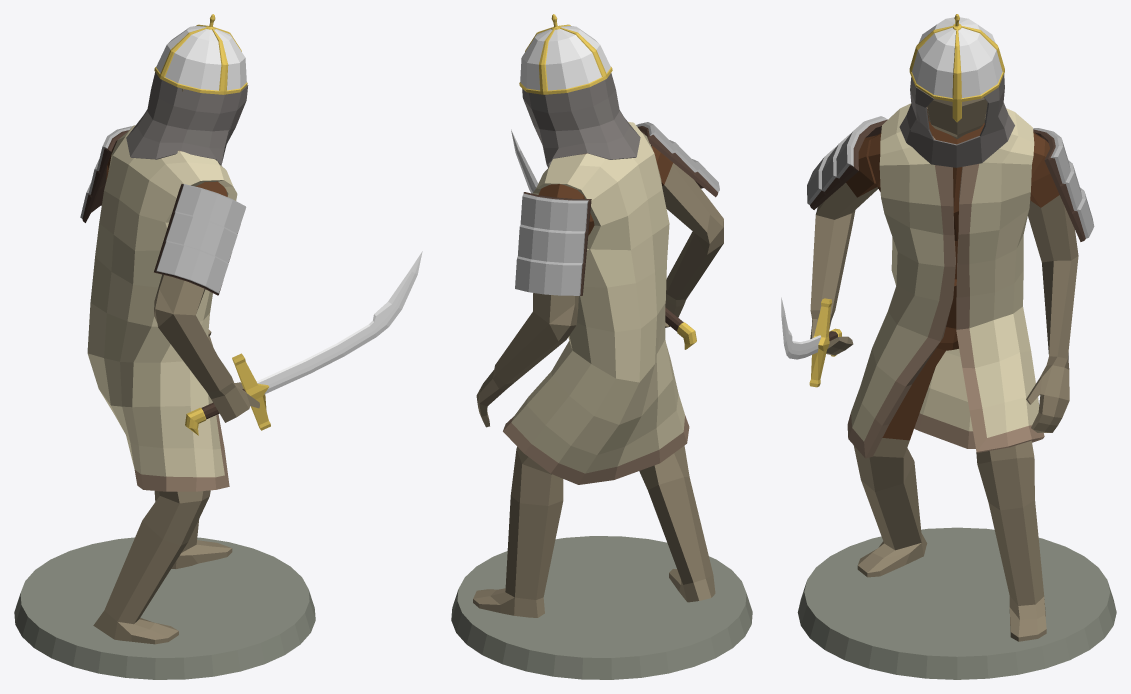
The model's file is fighter-waddle3.fbx.
3 renders of one model, left to right at view 1: azimuth 30°, elevation 25°; view 2: azimuth 150°, elevation 25°; view 3: azimuth 270°, elevation 25°, orthographic. The views are drawn at different scales.
Parts seen in each view (by area): view 1: Plane.003, Cylinder, Cube.003, Plane.004, Plane.001, Cube.002, Sphere, Cube.001, Plane.002; view 2: Plane.003, Cylinder, Cube.003, Plane.002, Plane.004, Cube, Cube.002, Sphere, Plane.001, Cube.001; view 3: Plane.003, Cylinder, Cube.003, Cube, Sphere, Cube.002, Plane.004, Plane.001, Plane.002, Cube.001.
Boxes of the visible parts, x1,y1,x2,y2 form: Plane.003: (87,125,237,491); Cylinder: (14,537,315,679); Cube.003: (93,490,232,644); Plane.004: (126,72,248,165); Plane.001: (154,184,246,295); Cube.002: (154,274,259,422); Sphere: (154,14,247,94); Cube.001: (185,251,422,435); Plane.002: (80,126,131,222); Plane.003: (503,122,689,484); Cylinder: (451,536,752,679); Cube.003: (473,445,715,617); Plane.002: (515,192,591,295); Plane.004: (522,73,640,167); Cube: (476,184,594,427); Cube.002: (651,145,723,327); Sphere: (519,14,612,94); Plane.001: (636,122,719,197); Cube.001: (511,129,696,349); Plane.003: (847,103,1044,458); Cylinder: (797,527,1116,679); Cube.003: (853,279,1046,641); Cube: (857,97,1078,576); Sphere: (909,14,1004,122); Cube.002: (810,135,878,355); Plane.004: (899,74,1014,167); Plane.001: (807,116,887,209); Plane.002: (1033,128,1094,241); Cube.001: (781,297,841,387).
Bounding box in the file's own units: 576 × 1065 × 520.
